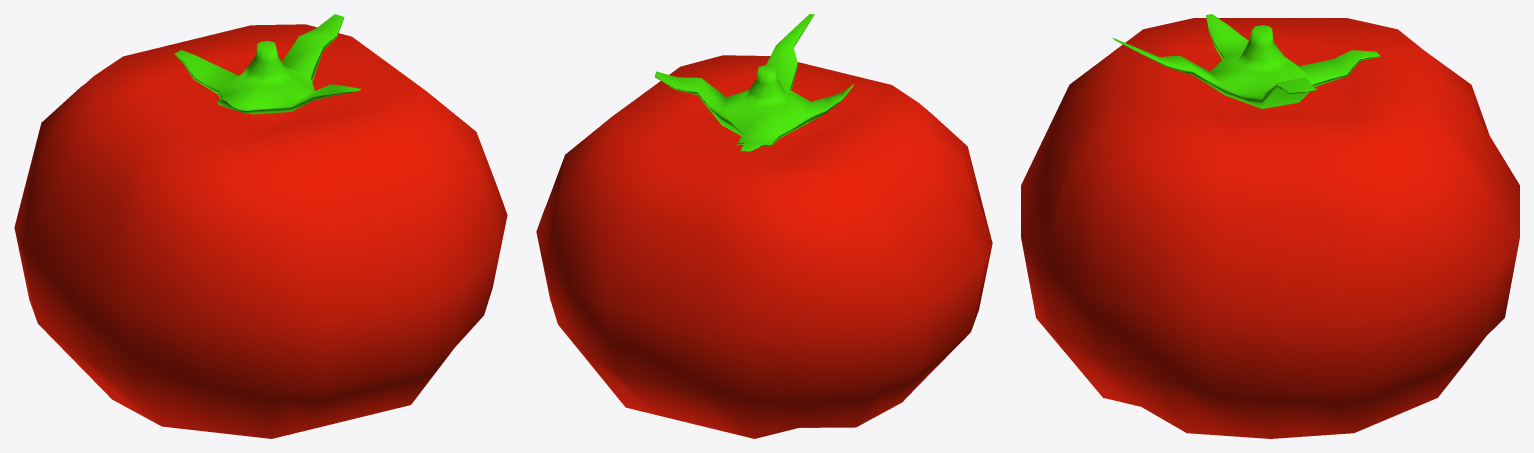
The model's file is Supermarket_run_tomato.fbx.
3 views of the same model, side by side, from view 1: azimuth 30°, elevation 25°; view 2: azimuth 150°, elevation 25°; view 3: azimuth 270°, elevation 25° (orthographic). The views are drawn at different scales.
Visible parts, largest first — view 1: Supermarket_run_tomato, Supermarket_run_tomato_plant; view 2: Supermarket_run_tomato, Supermarket_run_tomato_plant; view 3: Supermarket_run_tomato, Supermarket_run_tomato_plant.
Boxes of the visible parts, x1,y1,x2,y2 form: Supermarket_run_tomato: [14, 24, 507, 438]; Supermarket_run_tomato_plant: [174, 14, 361, 114]; Supermarket_run_tomato: [536, 55, 992, 438]; Supermarket_run_tomato_plant: [654, 14, 853, 151]; Supermarket_run_tomato: [1021, 18, 1519, 438]; Supermarket_run_tomato_plant: [1113, 14, 1380, 108].
Size of the model in its own units: 298 by 229 by 298.
